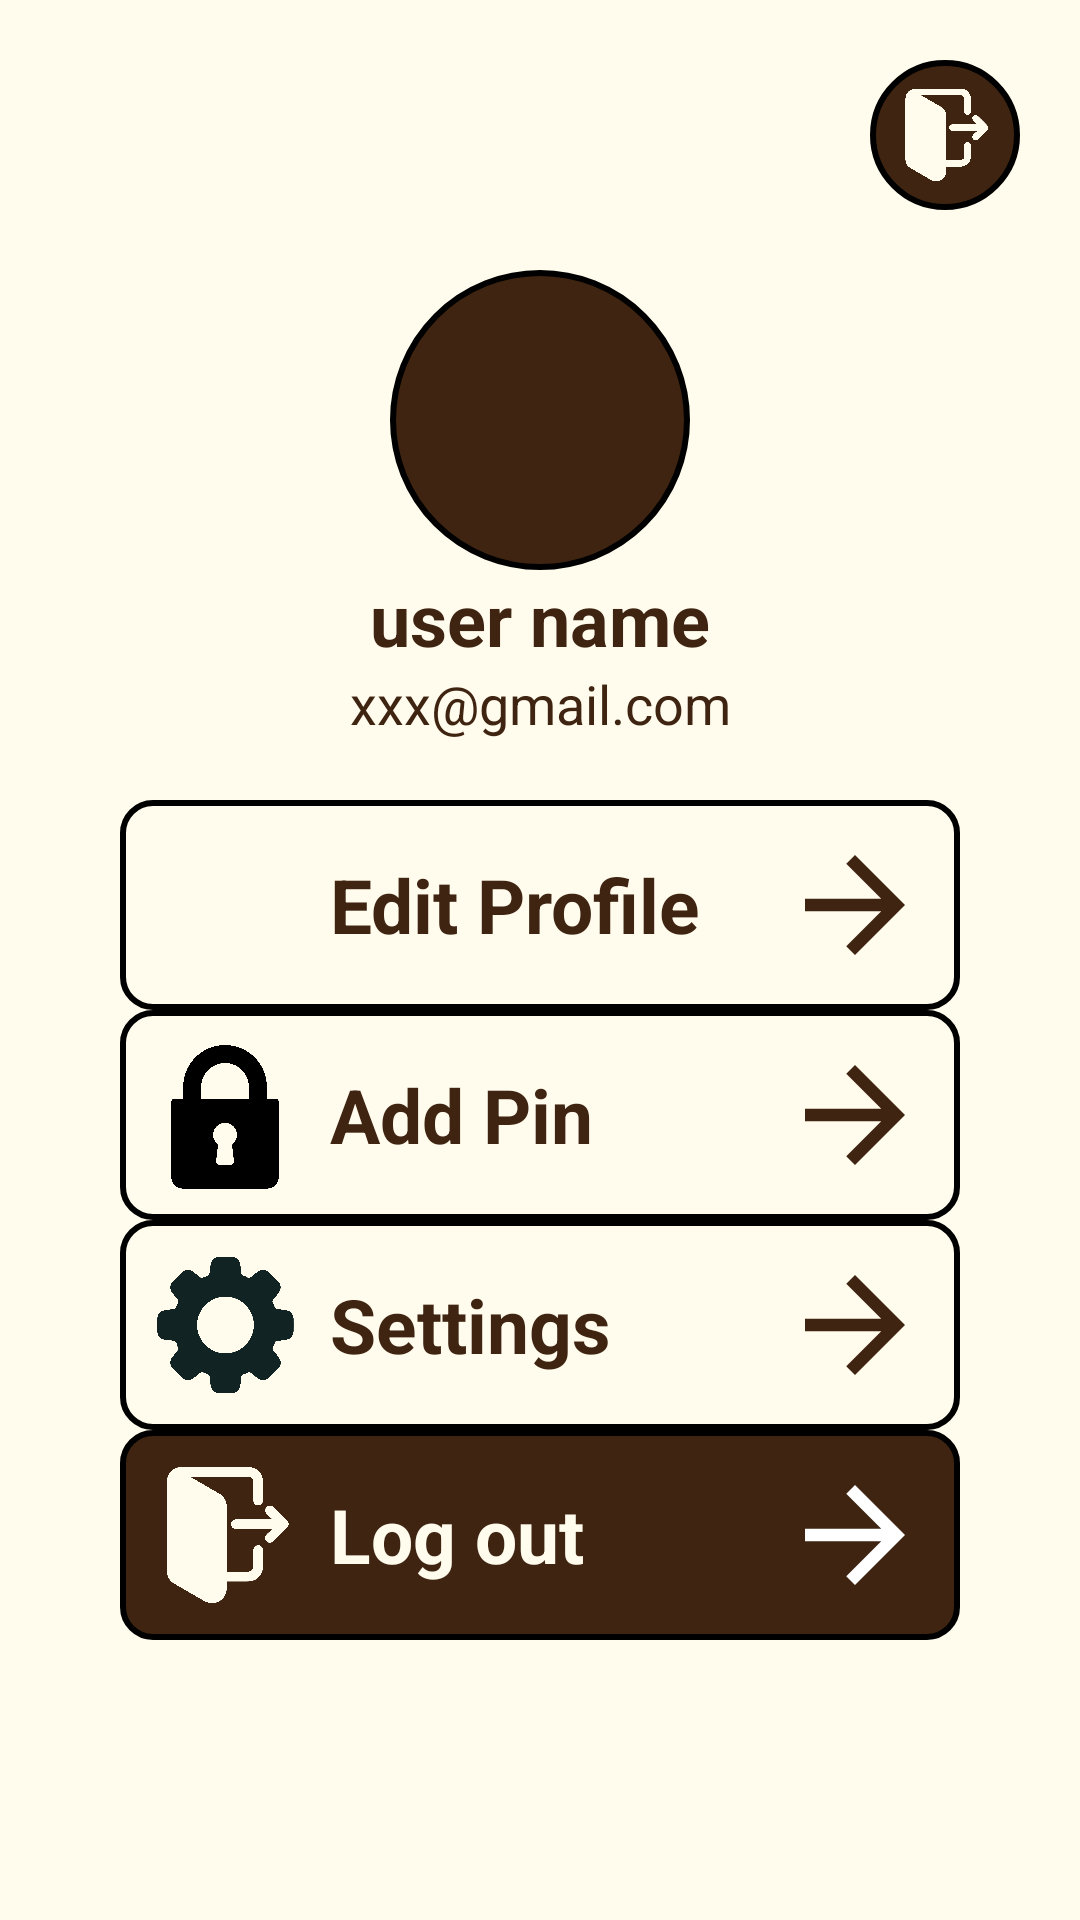

Where icons sit on this 1080px x 1920px app screen, as (x1, y1, x2, y2):
exit: (870, 60, 1020, 210), (167, 1467, 289, 1603)
lock: (171, 1045, 279, 1189)
